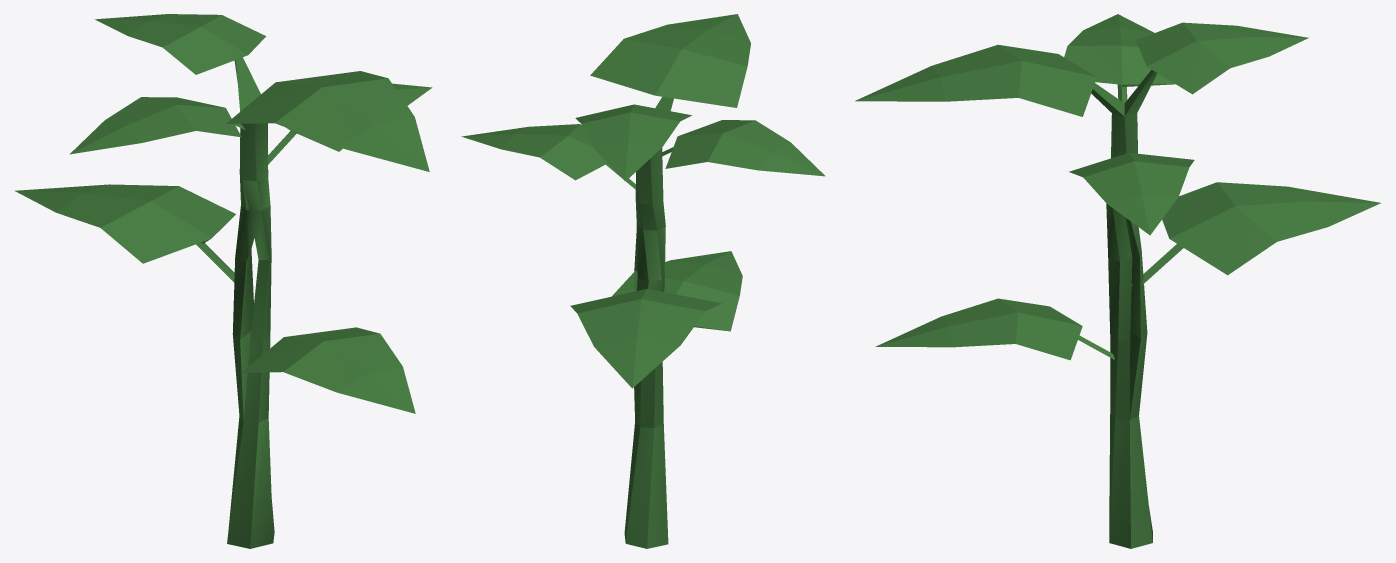
The model's file is plant_6.glb.
The picture shows the model from 3 angles, left to right: view 1: azimuth 30°, elevation 25°; view 2: azimuth 150°, elevation 25°; view 3: azimuth 270°, elevation 25°; orthographic projection. The views are drawn at different scales.
Visible parts, largest first — view 1: Plant16a; view 2: Plant16a; view 3: Plant16a.
Boxes of the visible parts, x1=… form: Plant16a: x1=14, y1=14, x2=432, y2=548; Plant16a: x1=461, y1=14, x2=825, y2=548; Plant16a: x1=855, y1=14, x2=1380, y2=548.
Size of the model in its own units: 2.3 by 2.84 by 2.78.
